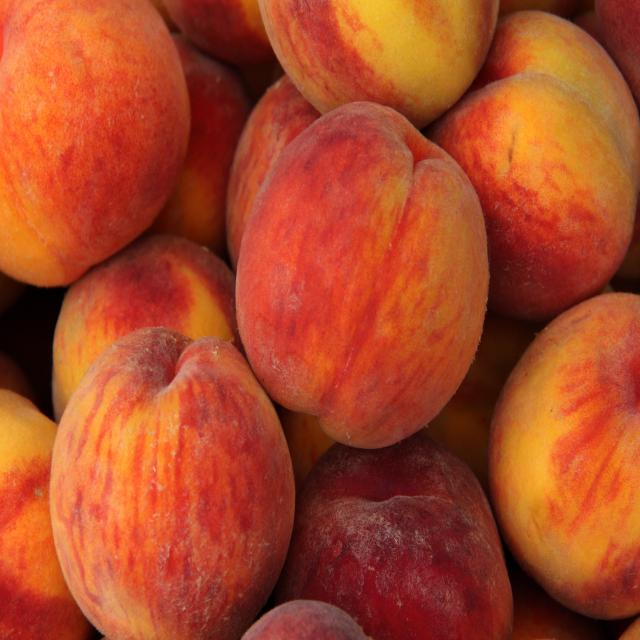peach: (236, 102, 490, 449), (46, 326, 297, 640), (423, 11, 640, 328), (267, 433, 517, 640), (489, 292, 640, 623), (256, 0, 504, 131)
